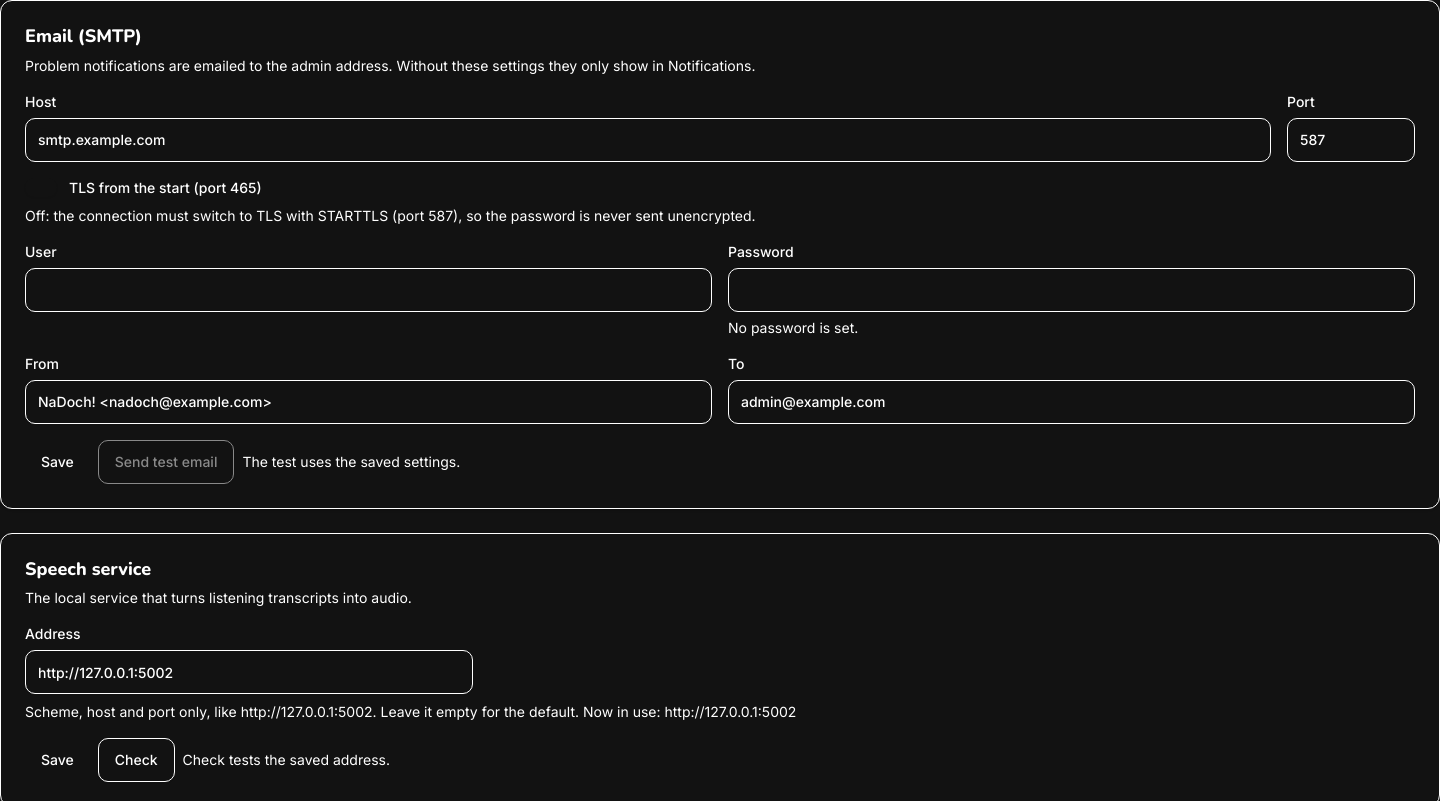
SystemSettingsAdmin › says when no password is set, and shows a save error
Expected: the text "No password is set." is shown, [728, 318, 858, 336]
Expected: the button "Send test email" is disabled, [98, 440, 234, 484]
Click the button "Save" in the row of "The test uses the saved settings." at coordinates (57, 462), box [25, 440, 90, 484]
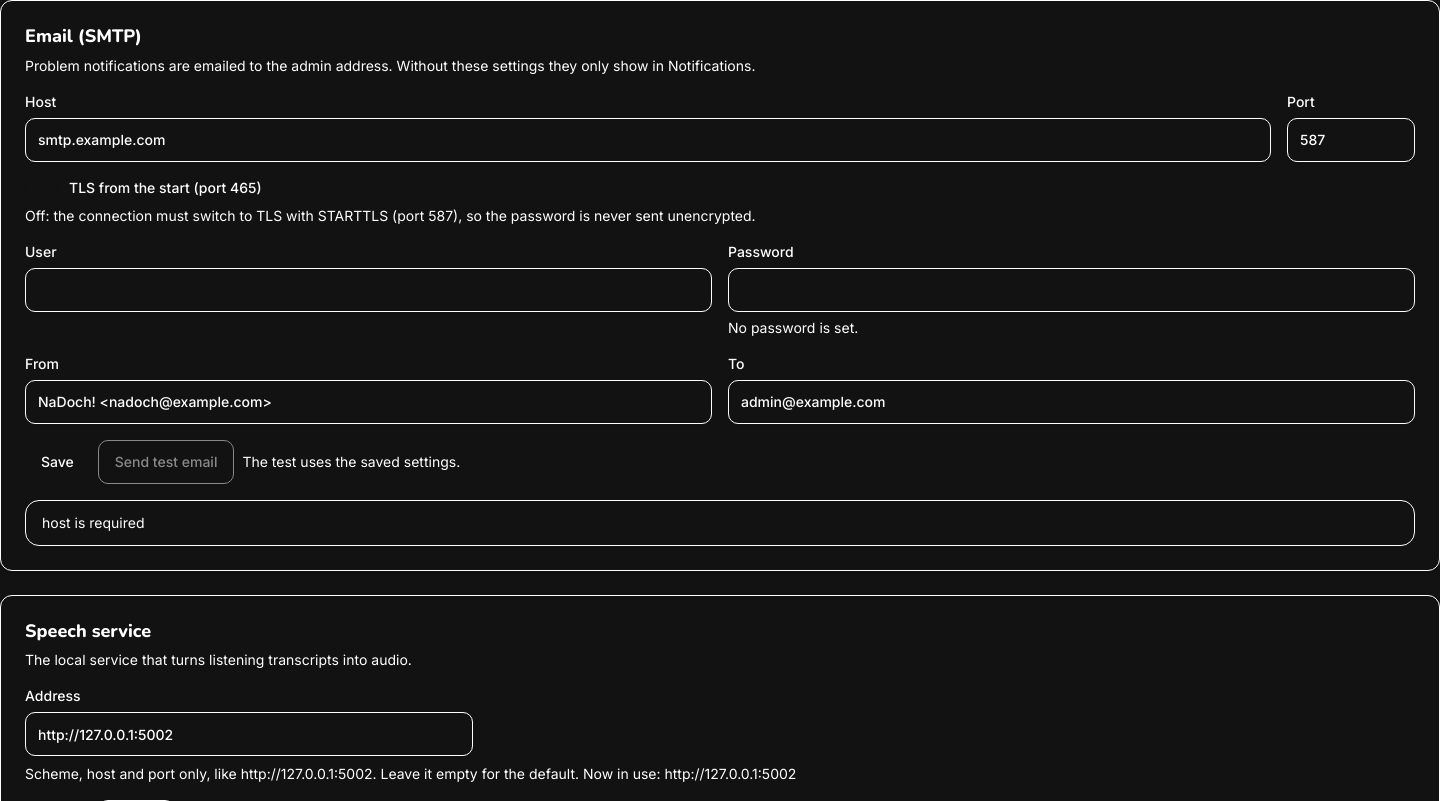
Expected: the message reads "host is required", [42, 514, 144, 530]
